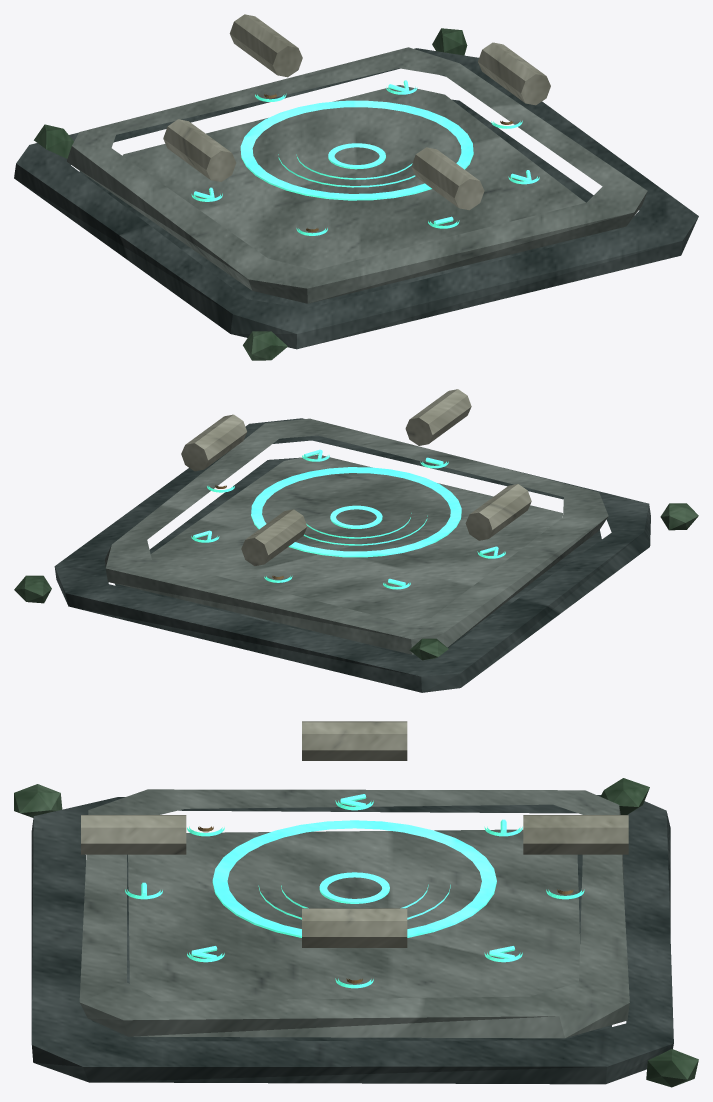
File: 0568_rune_dais_18.glb
3 views of the same model, one above another, from view 1: azimuth 30°, elevation 25°; view 2: azimuth 150°, elevation 25°; view 3: azimuth 270°, elevation 25° (orthographic). The views are drawn at different scales.
Visible parts, largest first — view 1: stone, stone_dark, stone_light, glow, moss; view 2: stone, stone_dark, stone_light, glow, moss; view 3: stone, stone_dark, stone_light, glow, moss.
Part boxes in pixels (x1,y1,x2,y2): stone: [67, 47, 647, 303]; stone_dark: [14, 48, 698, 349]; stone_light: [163, 14, 550, 210]; glow: [191, 80, 539, 235]; moss: [34, 28, 467, 360]; stone: [105, 418, 608, 654]; stone_dark: [54, 418, 650, 692]; stone_light: [181, 389, 531, 565]; glow: [191, 449, 505, 589]; moss: [14, 503, 698, 660]; stone: [79, 789, 629, 1038]; stone_dark: [31, 795, 673, 1084]; stone_light: [81, 721, 628, 947]; glow: [125, 794, 584, 988]; moss: [14, 778, 698, 1087].
Bounding box in the file's own units: 3.23 × 0.7138 × 3.25.
Materials: 6 (6 with a texture image).
